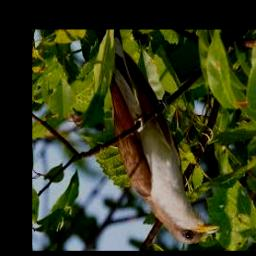Cuckoo: (102, 29, 218, 246)
